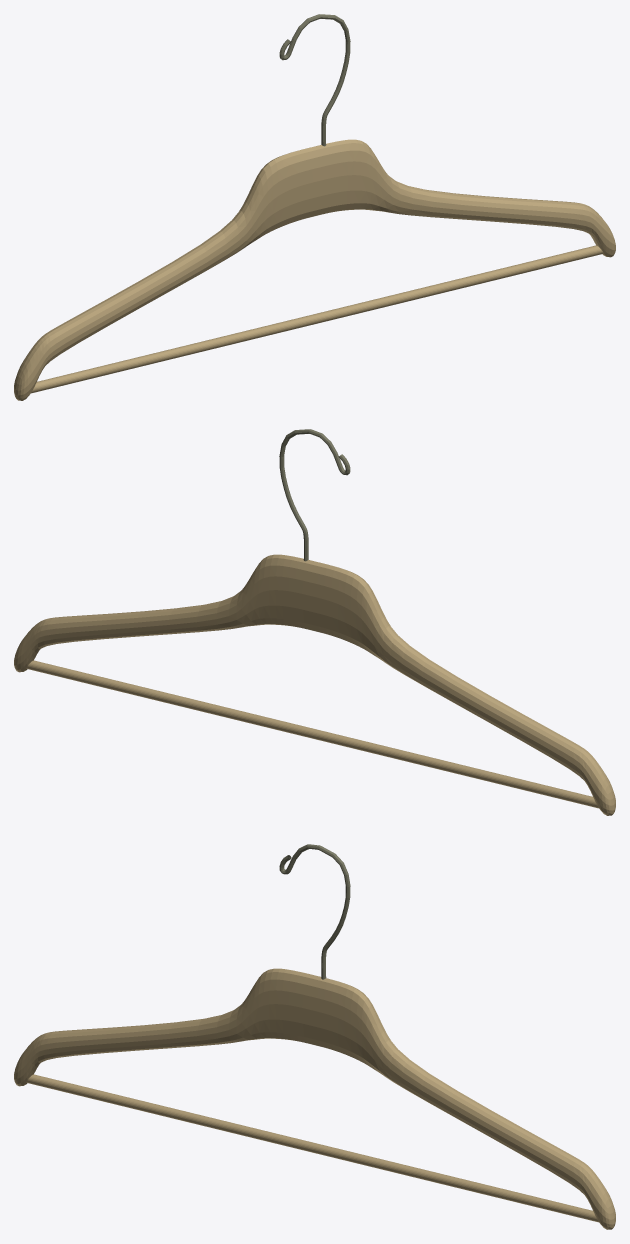
The model's file is clothes-hanger.obj.
The picture shows the model from 3 angles, top to bottom: view 1: azimuth 30°, elevation 25°; view 2: azimuth 150°, elevation 25°; view 3: azimuth 330°, elevation 25°; orthographic projection.
Visible parts, largest first — view 1: Wooden_hanger, Hanger_hook; view 2: Wooden_hanger, Hanger_hook; view 3: Wooden_hanger, Hanger_hook.
Part boxes in pixels (left/top/right/bottom): Wooden_hanger: left=14, top=139, right=615, bottom=400; Hanger_hook: left=279, top=14, right=350, bottom=146; Wooden_hanger: left=14, top=554, right=615, bottom=815; Hanger_hook: left=279, top=429, right=350, bottom=561; Wooden_hanger: left=14, top=968, right=615, bottom=1229; Hanger_hook: left=279, top=844, right=350, bottom=979.
Bounding box in the file's own units: 4.74 × 2.37 × 0.1405.
